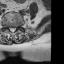CCS_normal: (11, 24, 13, 34)
LFS_severe_stenosis: (16, 23, 19, 30)
LLS_normal: (13, 25, 16, 33)
RFS_severe_stenosis: (6, 23, 9, 29)
RLS_normal: (9, 24, 11, 32)
